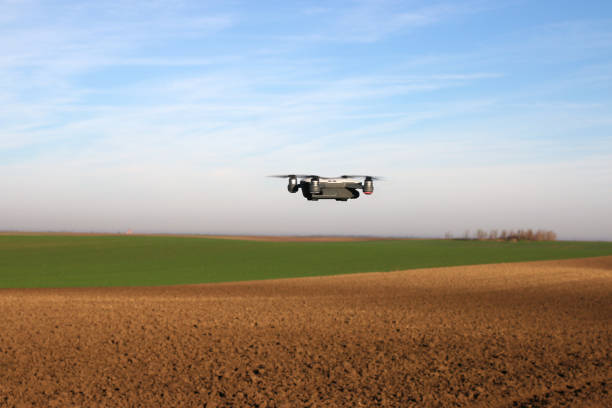Drone: (268, 170, 385, 202)
